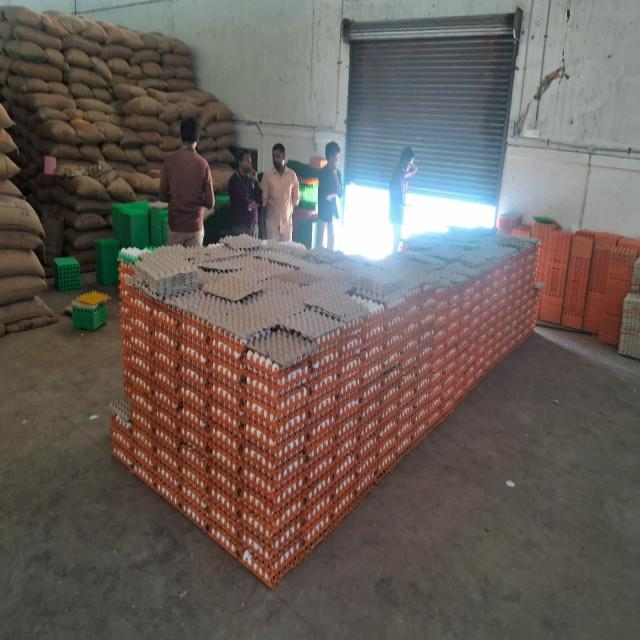egg_tray: (358, 341, 418, 485), (241, 466, 304, 572), (243, 350, 310, 445), (240, 425, 306, 515), (296, 271, 371, 349), (242, 396, 306, 483), (130, 291, 180, 398), (242, 385, 310, 460), (201, 255, 292, 309), (242, 350, 309, 421), (240, 491, 304, 561), (180, 309, 232, 395), (304, 416, 338, 546), (207, 360, 245, 473), (403, 229, 533, 262), (283, 261, 354, 321), (305, 416, 338, 543), (481, 292, 534, 371), (308, 372, 363, 445), (216, 292, 301, 339), (355, 254, 432, 305), (384, 291, 432, 368), (351, 265, 428, 313), (178, 442, 219, 532), (241, 531, 308, 586), (244, 339, 309, 393), (178, 353, 213, 452), (132, 246, 197, 299), (278, 292, 343, 344), (234, 255, 309, 299), (403, 327, 458, 387), (244, 251, 343, 284), (207, 455, 240, 554), (304, 493, 358, 553), (197, 251, 282, 289), (177, 440, 212, 532), (208, 455, 240, 555), (208, 455, 240, 554), (452, 229, 534, 267), (248, 328, 317, 373), (303, 457, 335, 549), (304, 252, 390, 285), (291, 251, 362, 290), (300, 291, 356, 339), (150, 403, 182, 485), (384, 253, 445, 296), (384, 254, 446, 296), (170, 290, 242, 326), (206, 405, 243, 475), (304, 283, 370, 322), (365, 302, 407, 363), (308, 341, 344, 412), (207, 407, 243, 477), (436, 269, 496, 311), (281, 307, 344, 347), (166, 440, 208, 495), (207, 327, 246, 386), (156, 426, 184, 508), (207, 374, 245, 433), (205, 372, 246, 426), (178, 354, 214, 415), (120, 287, 152, 355), (120, 285, 151, 355), (152, 345, 182, 417), (618, 260, 640, 357), (384, 318, 422, 374), (144, 261, 198, 299), (404, 286, 436, 350), (303, 415, 336, 477), (132, 403, 156, 488), (313, 252, 386, 279), (361, 310, 388, 383), (178, 314, 210, 373), (123, 353, 154, 413), (240, 246, 304, 275), (199, 239, 264, 267), (332, 451, 356, 526), (308, 341, 343, 392), (309, 366, 341, 421), (245, 255, 295, 290), (310, 322, 357, 359), (358, 366, 383, 435), (151, 339, 181, 396), (305, 399, 338, 450), (202, 273, 262, 301), (292, 259, 348, 289), (300, 249, 370, 273), (490, 283, 534, 321), (376, 403, 398, 479), (304, 434, 336, 486), (262, 271, 314, 303), (197, 255, 242, 291), (194, 244, 254, 271), (358, 373, 383, 437), (208, 327, 246, 369), (338, 336, 362, 402), (409, 396, 438, 450), (482, 244, 537, 272), (208, 508, 240, 556), (436, 323, 466, 374), (120, 306, 151, 355), (352, 281, 410, 307), (349, 281, 384, 324), (180, 485, 211, 533), (439, 339, 468, 390), (335, 387, 362, 441), (180, 405, 210, 453), (356, 436, 378, 501), (384, 305, 407, 367), (151, 405, 182, 451), (121, 287, 154, 330), (432, 261, 482, 289), (455, 247, 510, 272), (483, 329, 514, 373), (485, 302, 510, 356), (438, 319, 463, 373), (123, 351, 152, 397), (482, 259, 520, 294), (434, 285, 464, 329), (463, 281, 488, 333), (430, 372, 456, 421), (255, 244, 308, 268), (295, 260, 350, 283), (148, 298, 182, 335), (414, 385, 436, 442), (439, 327, 464, 377), (132, 403, 156, 454), (462, 330, 482, 391), (463, 307, 488, 355), (500, 237, 540, 267), (416, 327, 433, 397), (512, 294, 536, 343), (193, 242, 240, 267), (110, 415, 133, 466), (456, 326, 482, 371), (396, 401, 416, 459), (361, 339, 386, 385), (111, 416, 134, 466), (150, 316, 181, 353), (394, 377, 416, 429), (336, 413, 359, 462), (210, 355, 245, 387), (414, 347, 433, 405), (152, 385, 182, 421), (436, 263, 481, 287), (625, 258, 640, 329), (432, 325, 456, 369), (362, 305, 388, 345), (398, 353, 418, 405), (462, 277, 484, 323), (381, 364, 402, 411), (398, 350, 419, 394), (434, 366, 459, 402), (118, 247, 152, 273), (415, 343, 432, 395), (435, 287, 455, 331), (446, 283, 466, 327), (486, 312, 504, 359), (516, 287, 536, 329), (450, 367, 474, 402), (184, 487, 206, 525), (342, 319, 364, 357), (492, 263, 517, 296), (429, 372, 444, 423), (498, 237, 540, 255), (506, 261, 532, 290), (506, 327, 534, 353), (494, 325, 512, 365), (480, 267, 500, 303), (118, 271, 140, 303), (520, 247, 538, 286), (474, 313, 495, 345), (430, 370, 446, 411), (304, 247, 344, 263), (439, 296, 458, 329), (74, 291, 110, 308), (409, 253, 447, 269), (220, 235, 263, 249), (492, 282, 509, 317), (520, 295, 536, 331), (433, 385, 455, 411), (398, 414, 412, 452), (110, 396, 130, 422), (512, 283, 536, 302), (160, 327, 176, 353), (118, 261, 134, 286), (419, 345, 430, 379), (71, 299, 102, 311), (186, 323, 200, 340), (290, 385, 306, 399), (422, 411, 434, 429), (512, 329, 527, 343), (402, 370, 410, 391), (315, 313, 331, 322), (296, 258, 308, 268), (386, 261, 396, 272), (314, 287, 326, 295), (293, 309, 309, 315), (310, 285, 326, 291), (143, 475, 152, 483), (440, 401, 448, 409), (196, 379, 203, 388), (340, 293, 350, 299), (312, 288, 320, 294), (526, 323, 532, 330), (472, 374, 478, 381), (426, 298, 432, 305), (332, 270, 338, 277), (363, 307, 368, 315), (229, 355, 234, 363), (456, 385, 460, 395), (436, 369, 444, 374), (463, 318, 468, 325), (341, 293, 346, 300), (323, 496, 328, 503), (461, 367, 464, 378), (316, 313, 324, 317), (190, 415, 196, 420), (443, 343, 448, 349), (363, 308, 368, 314), (332, 293, 337, 299), (511, 239, 518, 243), (159, 389, 173, 391), (528, 307, 532, 314), (260, 256, 265, 261), (280, 360, 288, 363), (400, 399, 404, 405), (342, 287, 348, 290), (332, 320, 338, 323), (252, 567, 256, 571), (414, 300, 418, 304), (362, 299, 370, 301), (170, 499, 174, 503), (136, 273, 140, 277), (280, 430, 284, 434), (308, 309, 312, 313), (304, 294, 308, 298), (392, 322, 397, 325), (219, 540, 224, 543), (523, 311, 526, 316), (182, 409, 184, 416), (474, 294, 476, 301), (532, 261, 535, 265), (414, 332, 418, 335), (170, 405, 176, 407), (306, 351, 310, 354), (508, 249, 511, 253), (442, 379, 446, 382), (486, 291, 490, 294), (475, 286, 478, 290), (444, 379, 448, 382), (281, 309, 284, 313), (126, 367, 127, 378), (325, 292, 330, 294), (201, 440, 203, 445), (190, 428, 195, 430), (534, 261, 536, 266), (257, 241, 262, 243), (436, 355, 438, 360), (238, 354, 241, 357), (507, 303, 510, 306), (165, 402, 168, 405), (304, 254, 307, 257), (231, 239, 234, 242), (434, 338, 437, 341), (504, 245, 506, 249), (404, 309, 406, 313), (390, 308, 392, 312), (222, 356, 224, 360), (199, 424, 203, 426), (288, 275, 292, 277), (336, 441, 338, 445), (403, 409, 407, 411), (450, 353, 451, 361), (310, 313, 314, 315), (274, 285, 278, 287), (528, 331, 530, 334), (233, 539, 235, 542), (148, 468, 150, 471), (146, 456, 148, 459), (289, 307, 292, 309), (481, 347, 484, 349), (356, 301, 359, 303), (285, 258, 288, 260), (370, 307, 372, 310), (269, 258, 274, 259), (372, 318, 374, 320), (306, 295, 308, 297), (399, 431, 401, 433), (458, 375, 460, 377), (493, 309, 495, 311), (463, 306, 464, 310), (488, 278, 492, 279), (234, 325, 236, 327), (176, 301, 178, 303), (391, 267, 392, 270), (203, 388, 204, 391), (165, 398, 168, 399), (298, 329, 300, 330), (356, 372, 358, 373), (284, 269, 286, 270), (308, 271, 310, 272), (449, 291, 451, 292), (372, 311, 374, 312), (449, 334, 451, 335), (273, 487, 274, 488), (196, 380, 197, 381), (276, 358, 277, 359), (489, 305, 490, 306), (253, 260, 254, 261), (320, 325, 322, 325), (298, 311, 298, 312), (414, 341, 416, 341), (321, 250, 321, 251), (179, 350, 179, 353), (181, 345, 181, 345), (437, 415, 437, 416), (438, 414, 438, 415), (506, 347, 508, 347), (409, 398, 409, 399), (149, 465, 149, 466), (219, 451, 219, 452), (187, 409, 187, 410), (190, 381, 192, 381), (147, 371, 147, 372), (172, 367, 172, 367), (284, 307, 286, 307), (352, 274, 352, 275), (401, 426, 401, 428), (459, 372, 459, 373), (427, 336, 427, 337), (525, 307, 525, 307), (126, 305, 130, 305), (450, 349, 450, 351), (463, 307, 463, 308), (288, 297, 288, 297), (319, 280, 319, 282), (348, 278, 348, 279), (238, 259, 239, 259), (179, 349, 179, 351), (183, 343, 183, 343), (364, 261, 366, 261)
